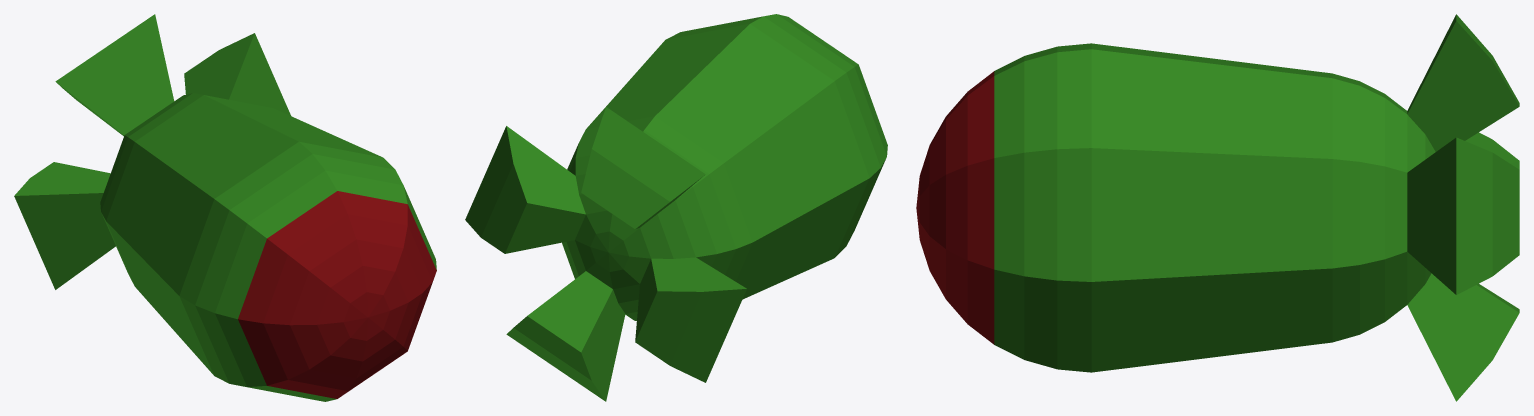
File: Atomic.fbx
3 views of the same model, side by side, from view 1: azimuth 30°, elevation 25°; view 2: azimuth 150°, elevation 25°; view 3: azimuth 270°, elevation 25° (orthographic). The views are drawn at different scales.
Visible parts, largest first — view 1: Sphere; view 2: Sphere; view 3: Sphere.
Boxes of the visible parts, x1=… form: Sphere: x1=14, y1=14, x2=436, y2=401; Sphere: x1=465, y1=14, x2=887, y2=401; Sphere: x1=916, y1=14, x2=1519, y2=401.
Size of the model in its own units: 283 by 283 by 413.
